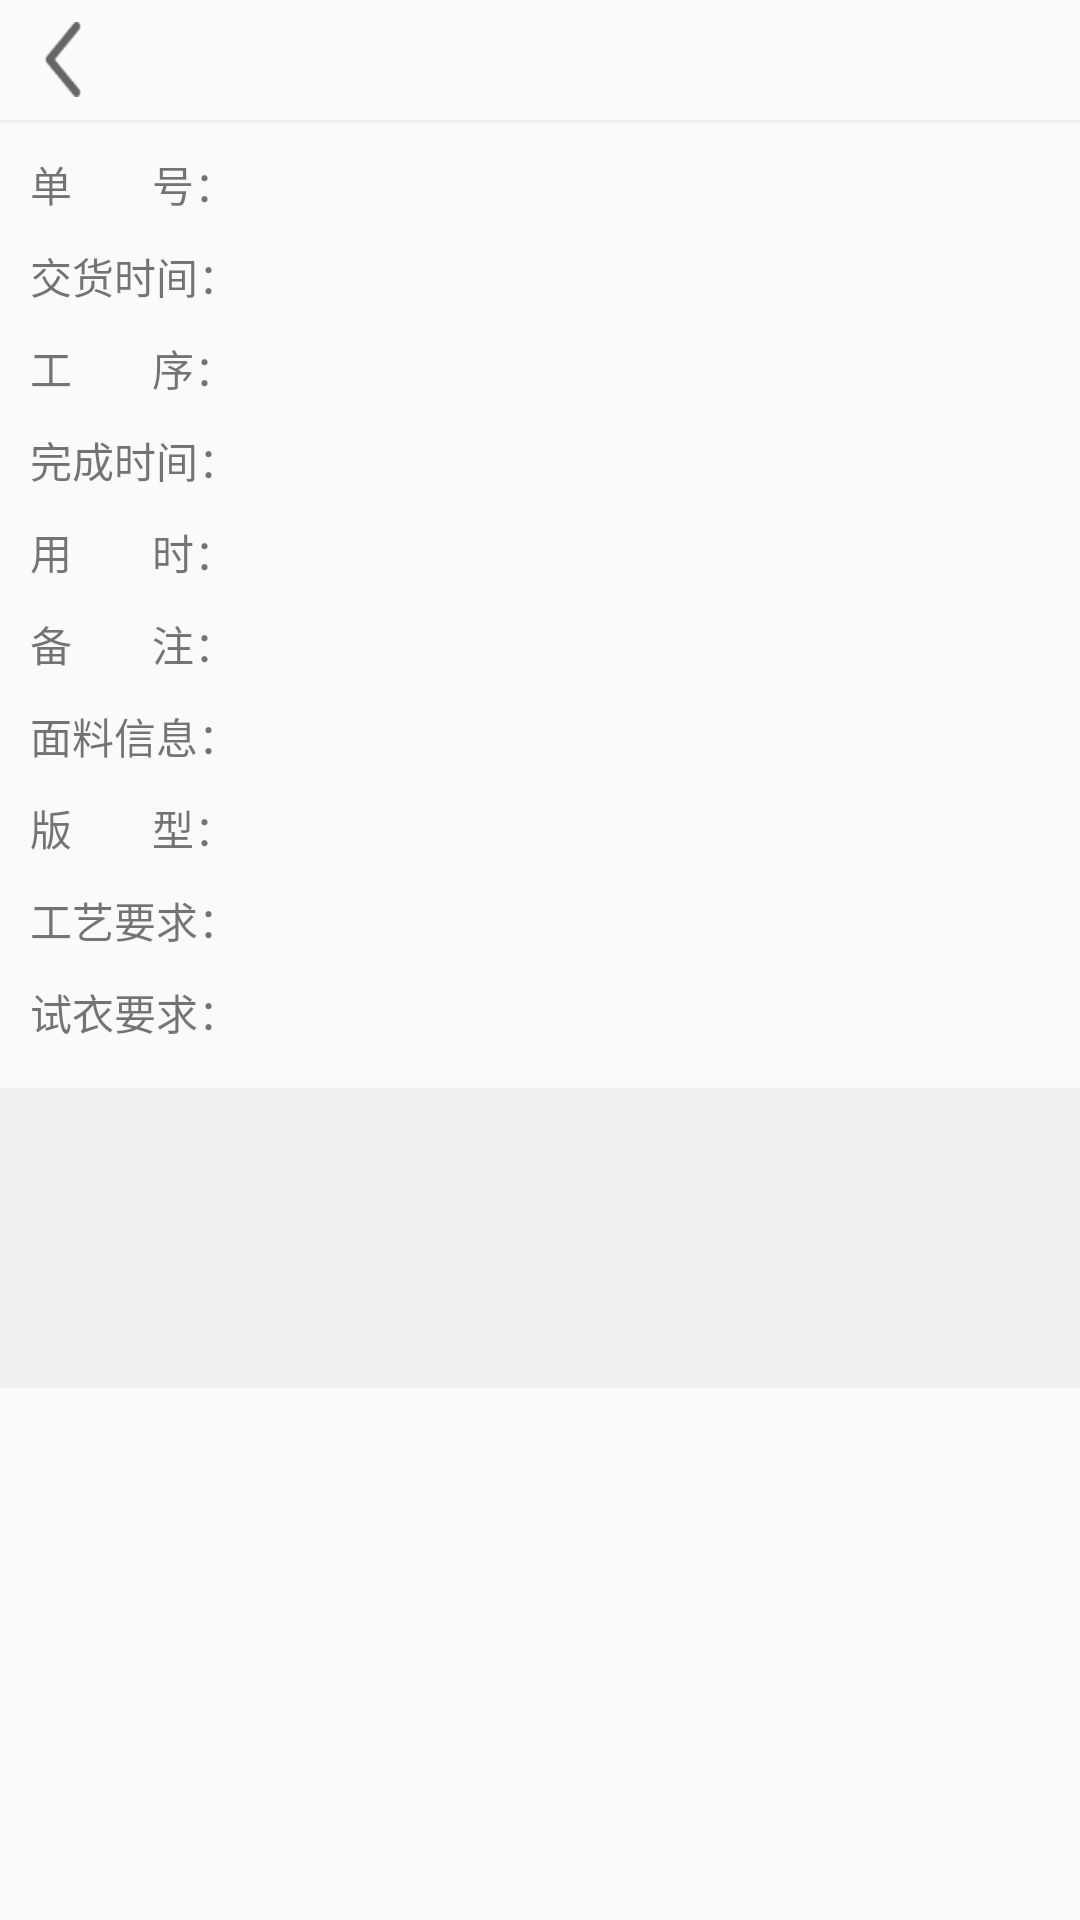

Point at icon controls on the screen. Image size 1080x1920, points as point (x, y).
back: point (63, 59)
